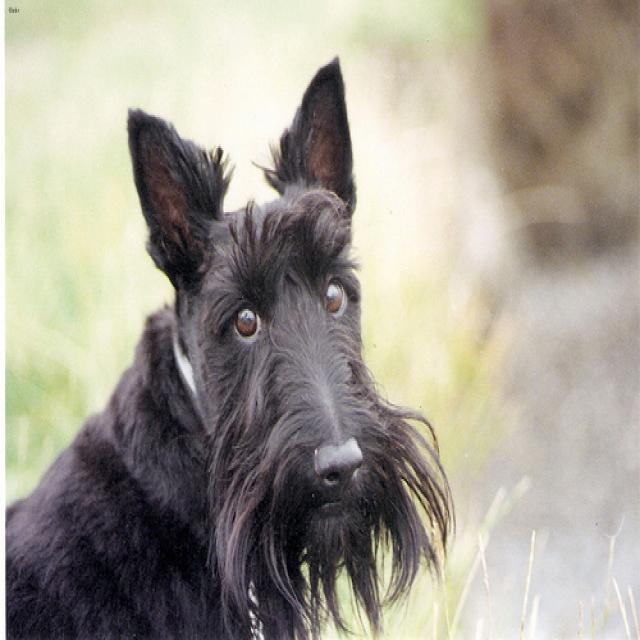dog-scottish_terrier: (1, 46, 458, 636)
